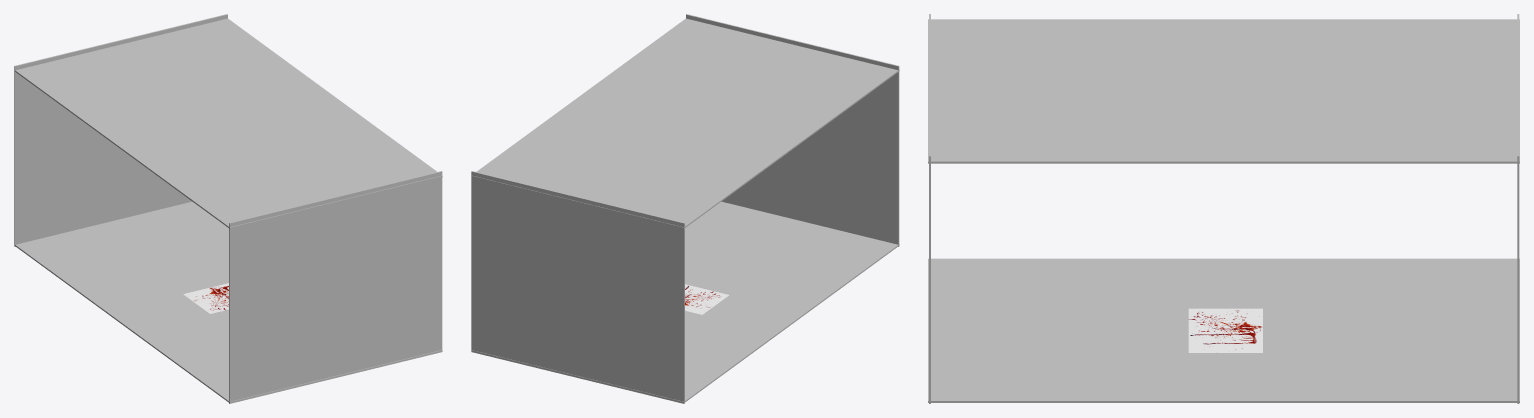
File: new_room.obj
3 views of the same model, side by side, from view 1: azimuth 30°, elevation 25°; view 2: azimuth 150°, elevation 25°; view 3: azimuth 270°, elevation 25° (orthographic). The views are drawn at different scales.
Parts seen in each view (by area): view 1: Plane.006, Plane.004, Plane, Plane.005, Empty.001; view 2: Plane.006, Plane.005, Plane, Plane.004, Empty.001; view 3: Plane.006, Plane, Empty.001, Plane.005, Plane.004.
Part boxes in pixels (bbox=[...]): Plane.006: bbox=[14, 18, 442, 228]; Plane.004: bbox=[229, 171, 442, 403]; Plane: bbox=[14, 201, 442, 403]; Plane.005: bbox=[14, 14, 227, 246]; Empty.001: bbox=[183, 283, 228, 313]; Plane.006: bbox=[471, 18, 899, 228]; Plane.005: bbox=[471, 171, 684, 403]; Plane: bbox=[471, 201, 899, 403]; Plane.004: bbox=[686, 14, 899, 246]; Empty.001: bbox=[685, 284, 728, 314]; Plane.006: bbox=[928, 19, 1519, 163]; Plane: bbox=[928, 258, 1519, 402]; Empty.001: bbox=[1188, 308, 1262, 352]; Plane.005: bbox=[1517, 14, 1519, 403]; Plane.004: bbox=[929, 14, 930, 403].
Size of the model in its own units: 16.08 by 13.03 by 28.24.
